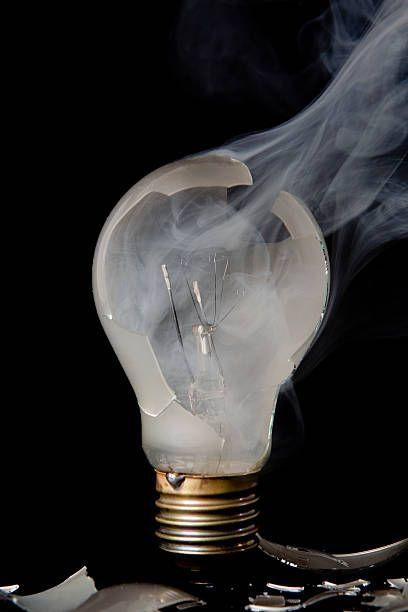light bulb: (89, 148, 332, 588)
